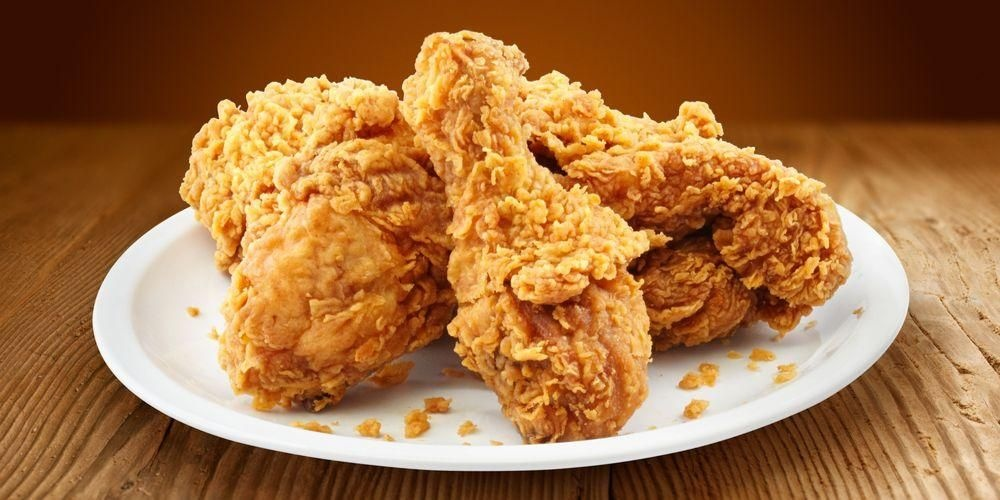ayam_goreng: (386, 15, 657, 456)
